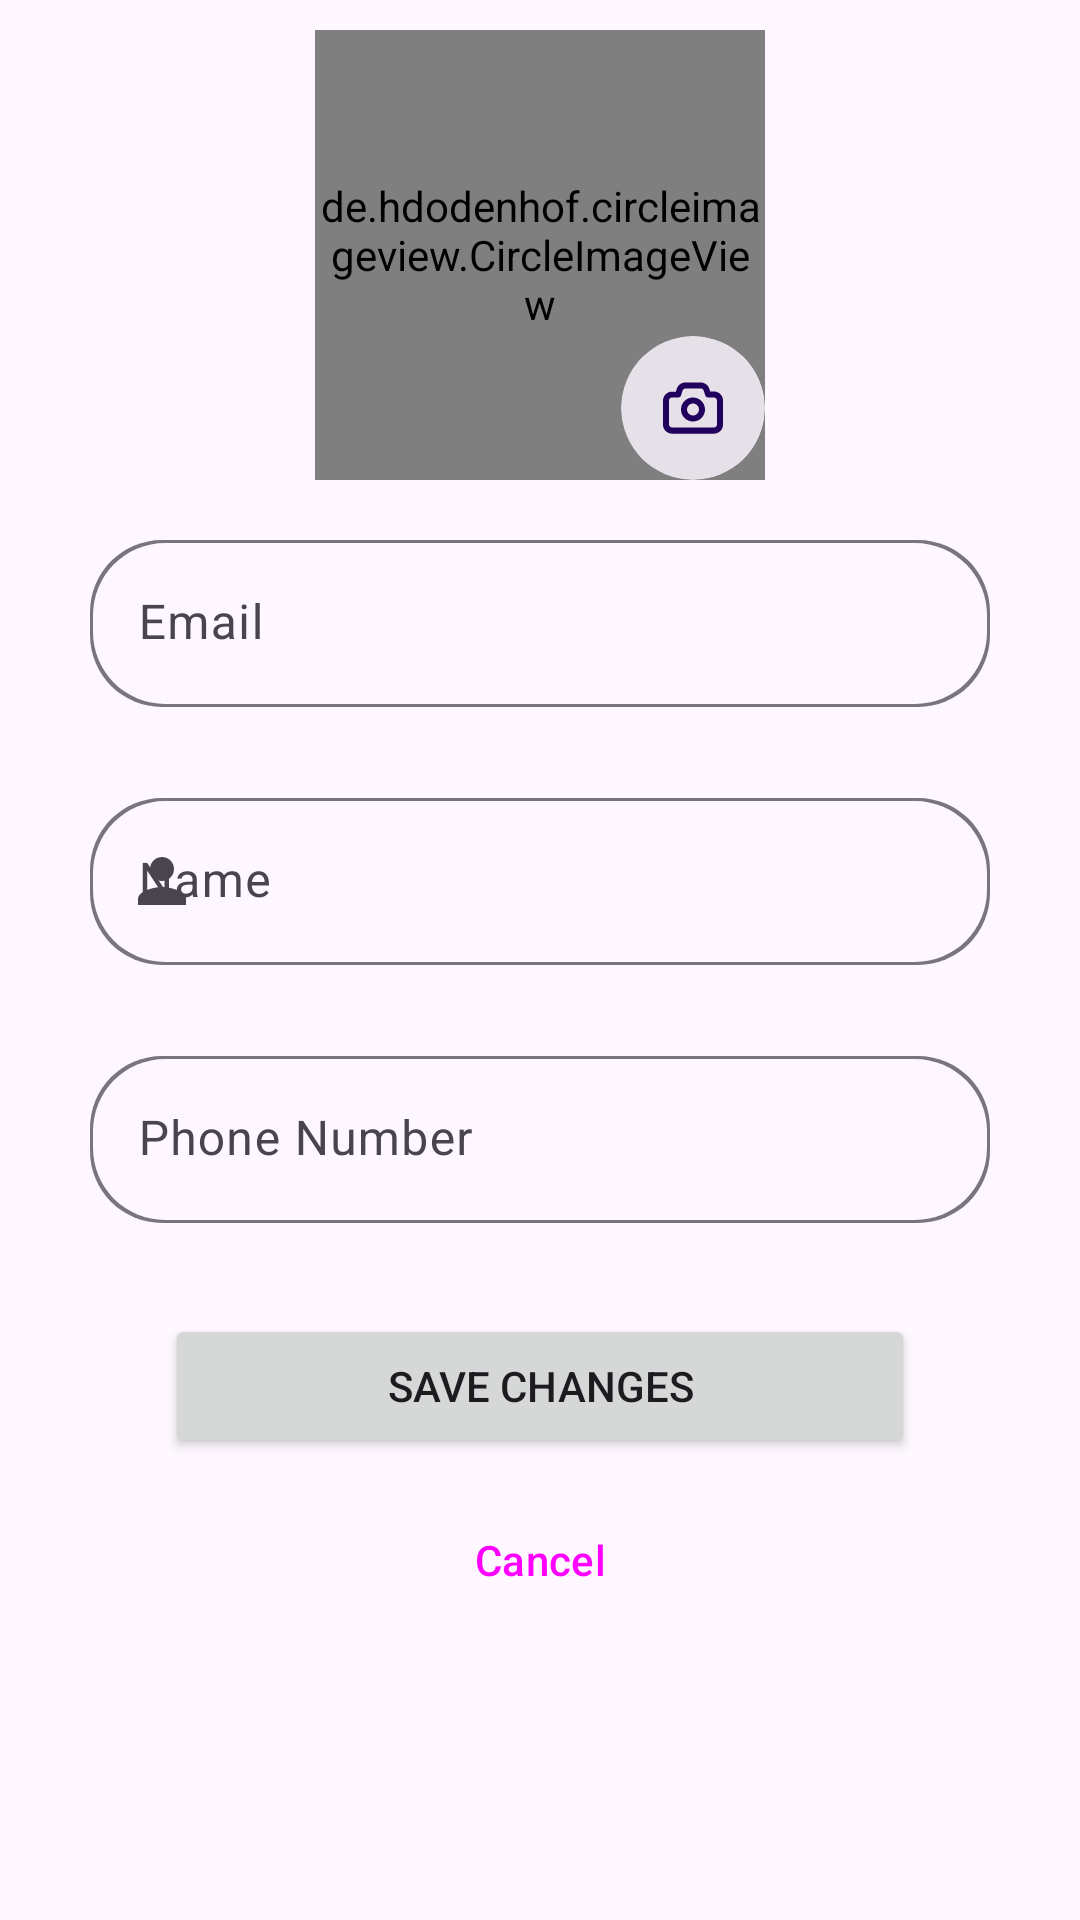

Where icons sit on this 1080×1920 app screen, as {"x1": x1, "y1": y1, "x2": x2, "y2": y2}:
camera: {"x1": 663, "y1": 382, "x2": 723, "y2": 434}
